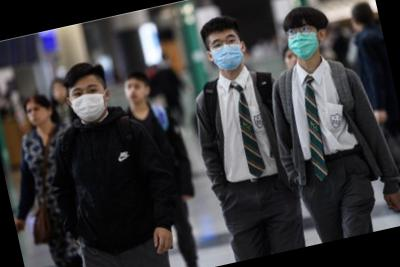with_mask: (67, 81, 111, 127), (283, 19, 325, 63), (208, 31, 247, 75)
without_mask: (123, 80, 148, 105), (25, 102, 49, 128)
